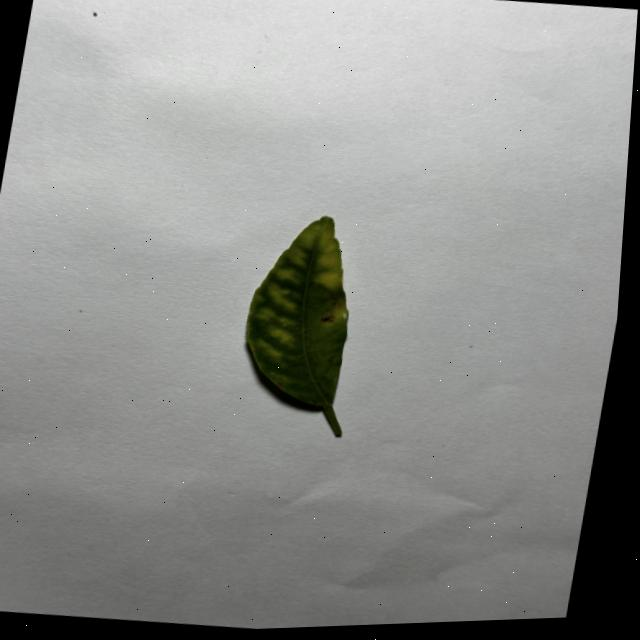greening: (246, 215, 347, 435)
